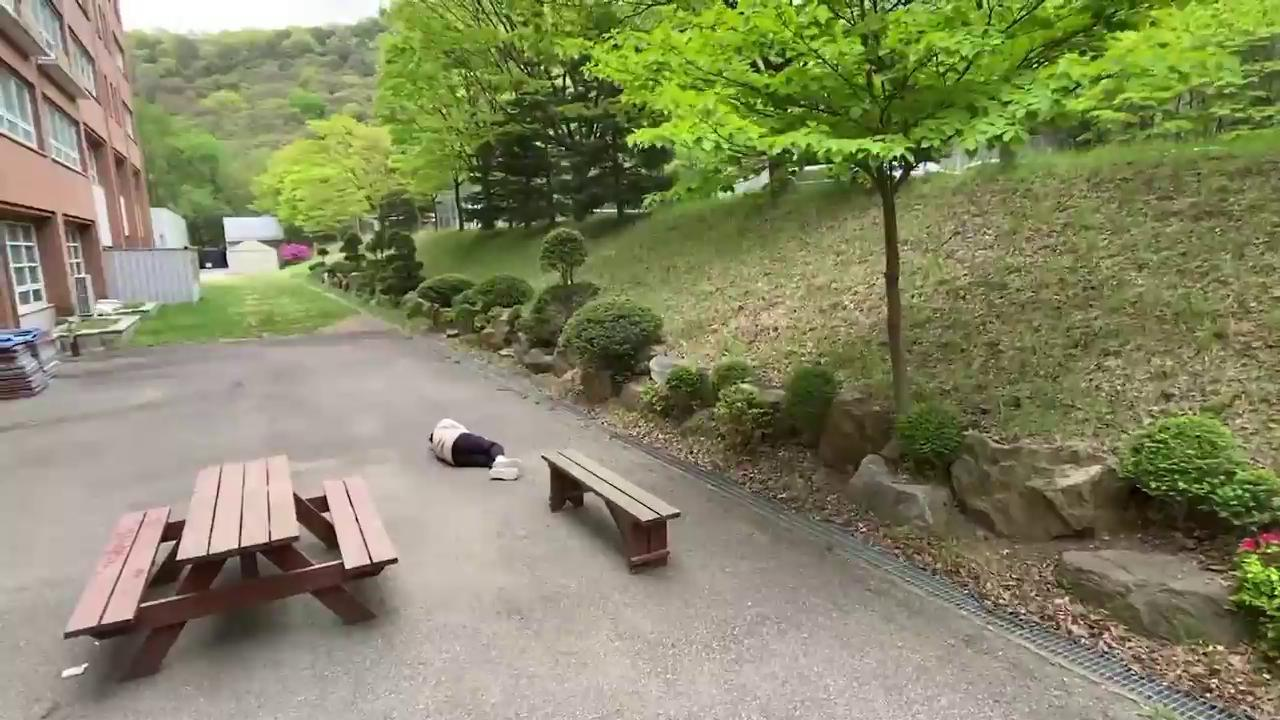faint: (427, 415, 529, 486)
